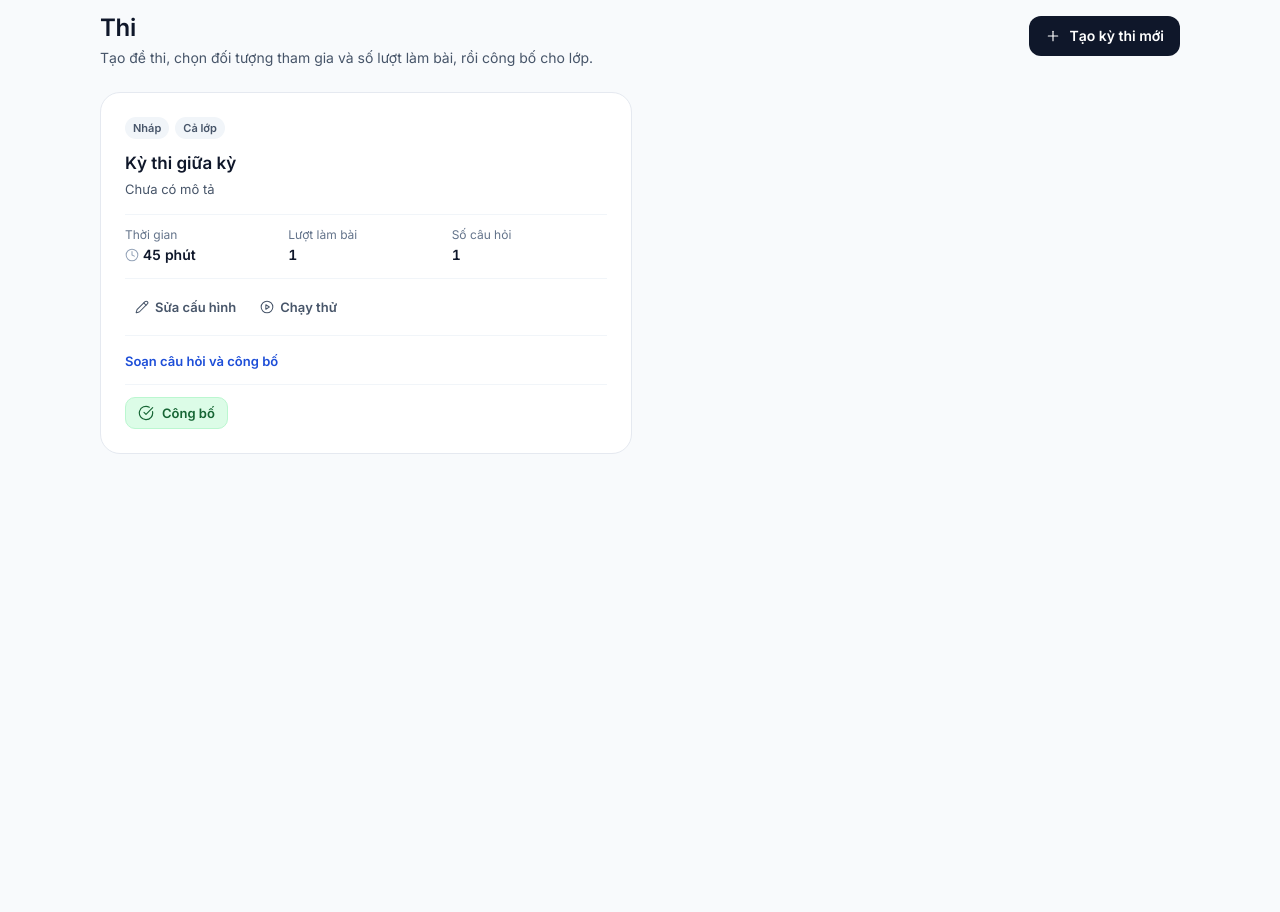
it: StudioExams — added question appears in the authoring panel (R17-03) › reloads the exam detail after adding, so the new question is listed, and appends it after existing ones
expect the heading "Kỳ thi giữa kỳ" is shown: met, box [125,153,236,173]
Click the button "Soạn câu hỏi và công bố": (202, 361) [125,352,278,370]
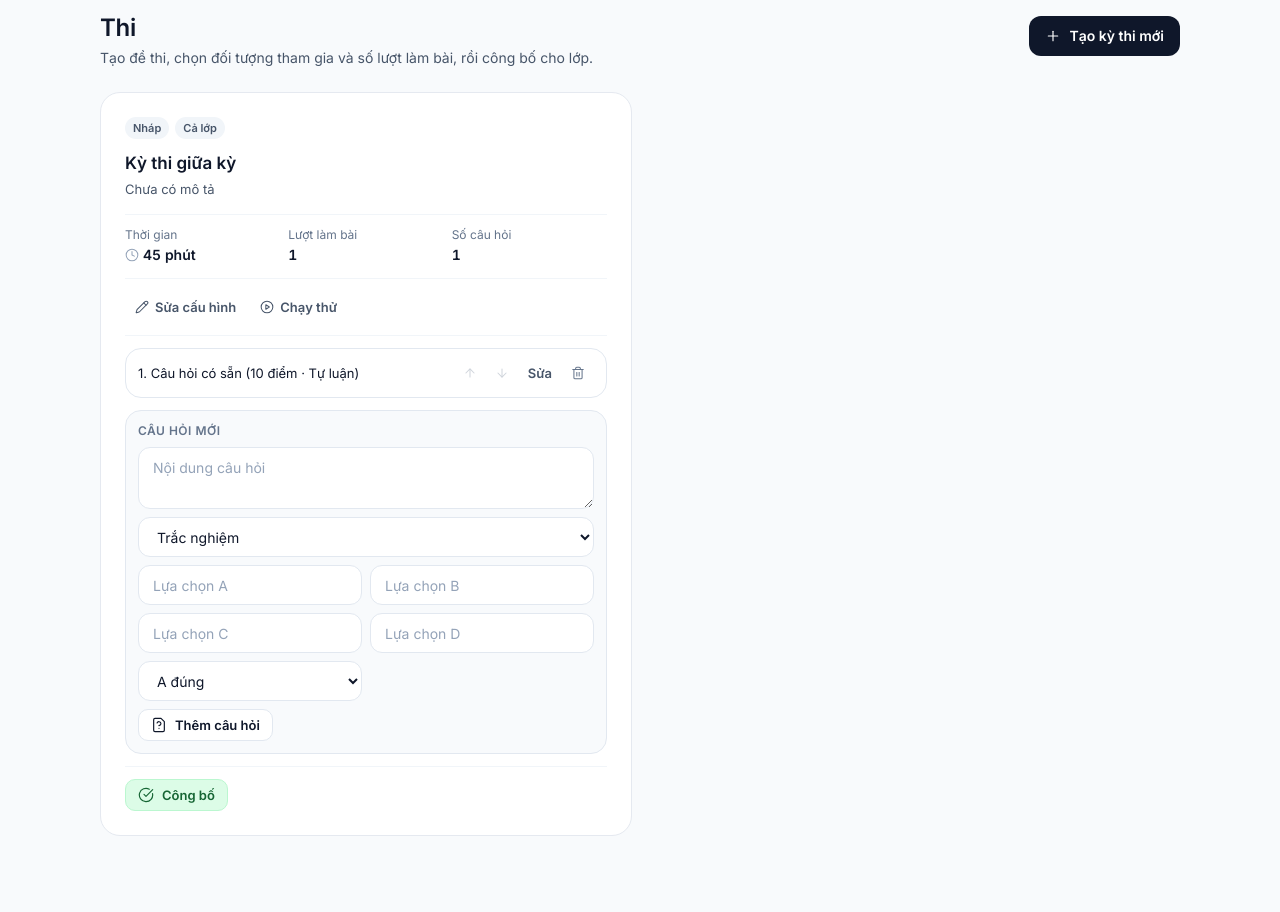
expect the text "1. Câu hỏi có sẵn (10 điểm · Tự luận)" is shown: met, box [138,364,359,382]
In the text box labelled "Nội dung câu hỏi": (366, 478) [138,447,594,509], type "Tự luận mới"
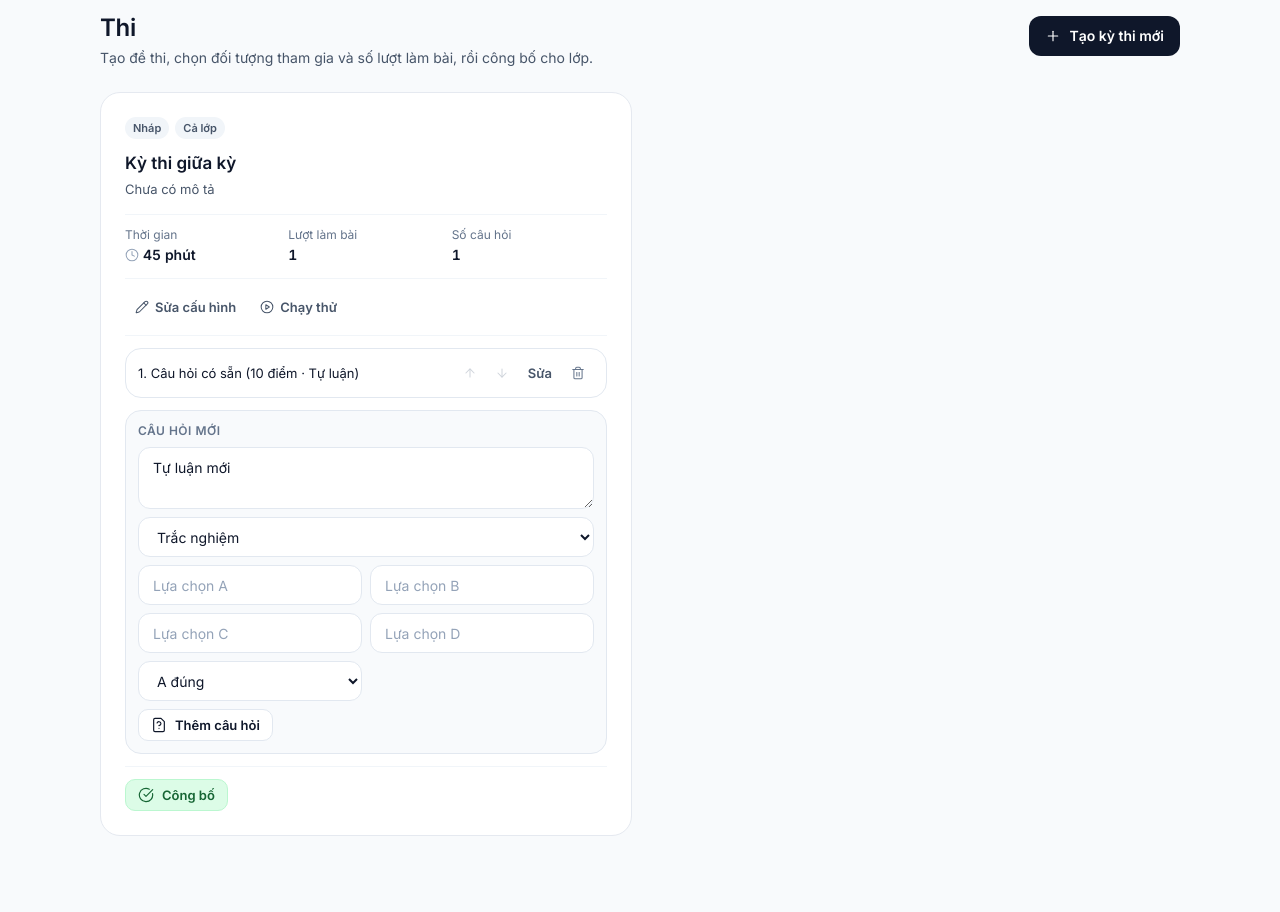
Select "Tự luận" in the dropdown named "Loại câu hỏi": (366, 537) [138,517,594,557]
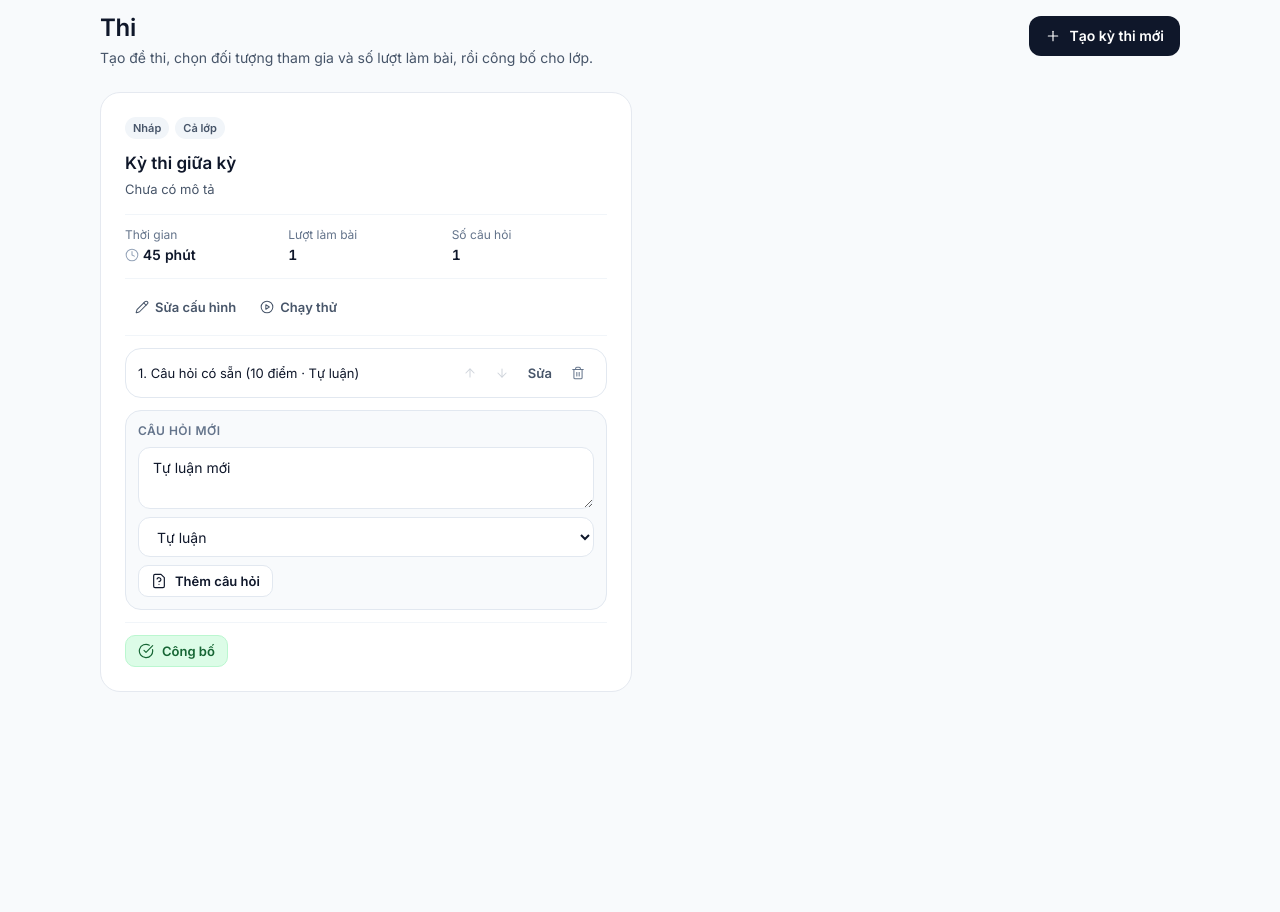
Click the button "Thêm câu hỏi": (205, 581) [138,565,273,597]
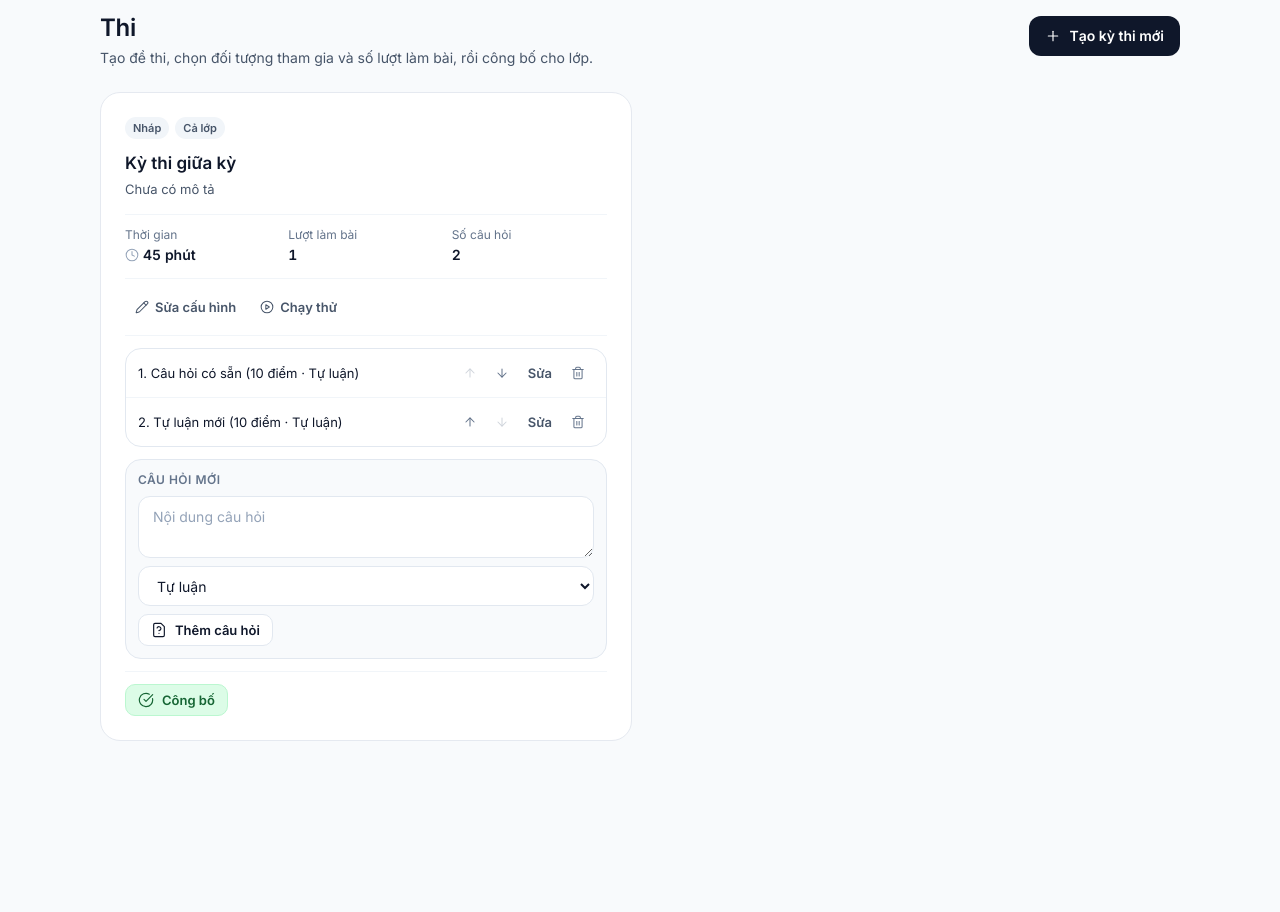
expect the text "2. Tự luận mới (10 điểm · Tự luận)" is shown: met, box [138,413,343,431]
expect the text box labelled "Nội dung câu hỏi" is empty: met, box [138,496,594,558]
